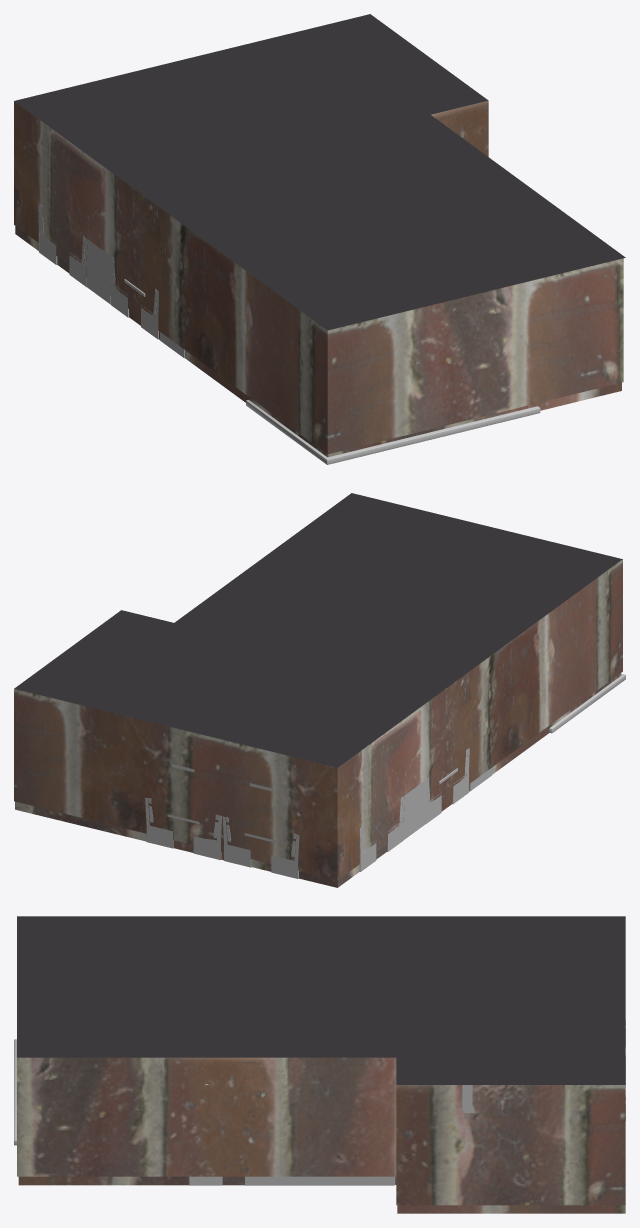
File: 2024_BBVR Bar Scene_002.fbx
3 views of the same model, one above another, from view 1: azimuth 30°, elevation 25°; view 2: azimuth 150°, elevation 25°; view 3: azimuth 270°, elevation 25° (orthographic). The views are drawn at different scales.
Parts seen in each view (by area): view 1: Ceiliing, Walls, Skirting, Stage, Bookshelf_01, BenchL_01.015; view 2: Ceiliing, Walls, Skirting, Bookshelf_01, BenchL_01.015, BenchL_01.006, BenchL_01.009, BenchL_01, BenchL_01.003, Stage; view 3: Ceiliing, Walls, Skirting, Shelves.
Part boxes in pixels (<box>): Ceiliing: <box>14,14,625,330</box>; Walls: <box>14,100,623,454</box>; Skirting: <box>15,226,621,457</box>; Stage: <box>246,399,540,464</box>; Bookshelf_01: <box>86,239,110,304</box>; BenchL_01.015: <box>38,203,87,286</box>; Ceiliing: <box>14,493,622,767</box>; Walls: <box>14,559,622,880</box>; Skirting: <box>15,673,621,887</box>; Bookshelf_01: <box>403,781,425,839</box>; BenchL_01.015: <box>360,796,404,871</box>; BenchL_01.006: <box>193,814,222,860</box>; BenchL_01.009: <box>145,797,173,848</box>; BenchL_01: <box>271,833,299,878</box>; BenchL_01.003: <box>222,816,251,867</box>; Stage: <box>549,673,625,733</box>; Ceiliing: <box>17,916,625,1084</box>; Walls: <box>17,1057,625,1205</box>; Skirting: <box>18,1176,625,1213</box>; Shelves: <box>244,1176,394,1185</box>.
Size of the model in its own units: 857 by 304 by 1306.
